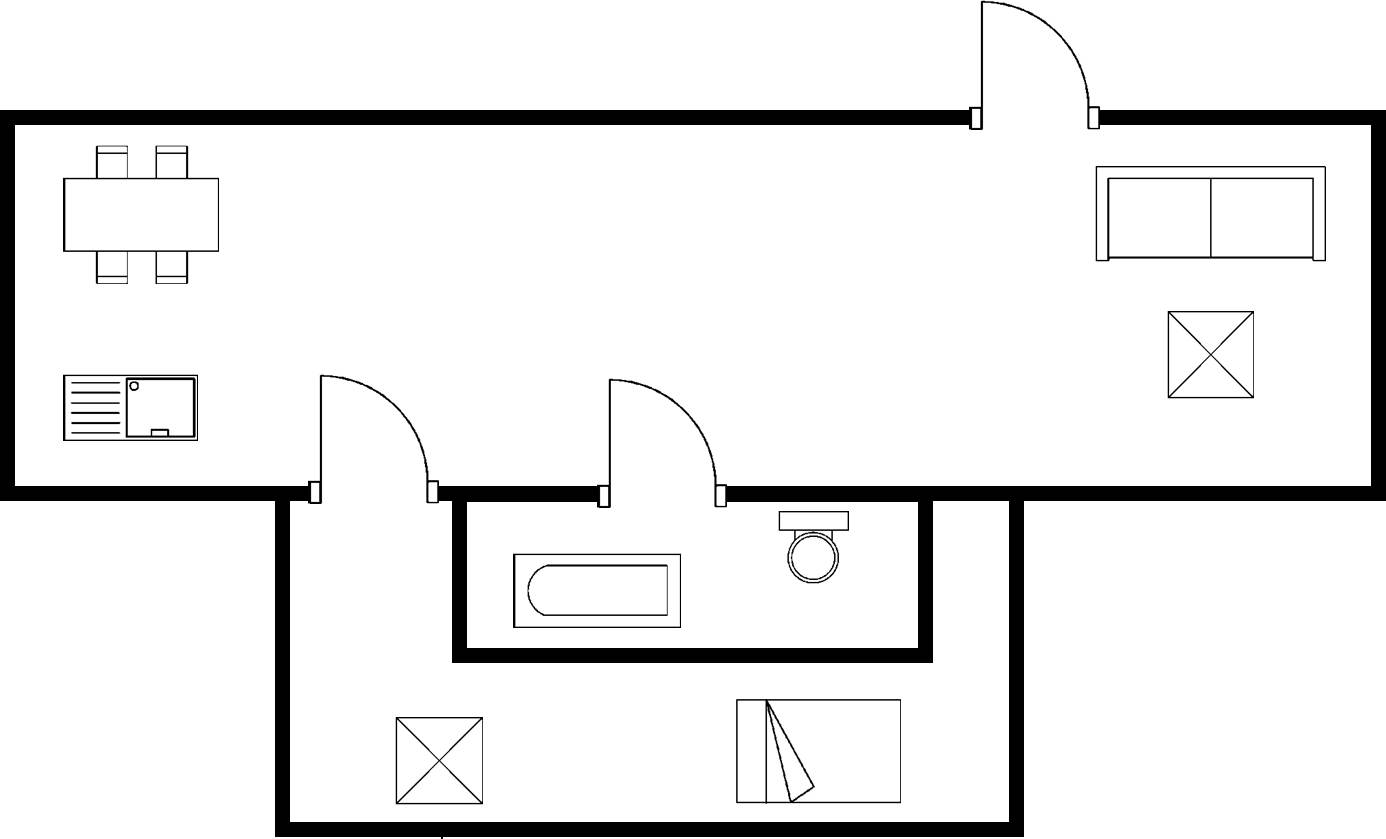bed: (728, 692, 907, 809)
cavity: (508, 549, 685, 634)
coffee_table: (1161, 304, 1261, 406), (389, 711, 488, 811)
dining_table: (59, 140, 226, 287)
large_sink: (774, 506, 856, 590)
large_sofa: (1090, 160, 1332, 269)
sink: (57, 367, 204, 447)
tub: (507, 546, 689, 636)
